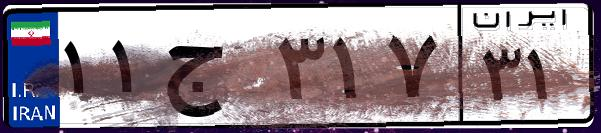1: (330, 28, 385, 110), (57, 26, 110, 100), (525, 38, 570, 115), (110, 28, 158, 98)
3: (270, 28, 330, 110), (475, 38, 525, 113)
7: (385, 28, 445, 110)
ج: (158, 20, 270, 120)
